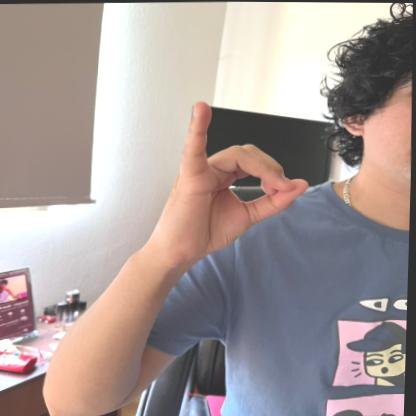D: (153, 96, 322, 262)
